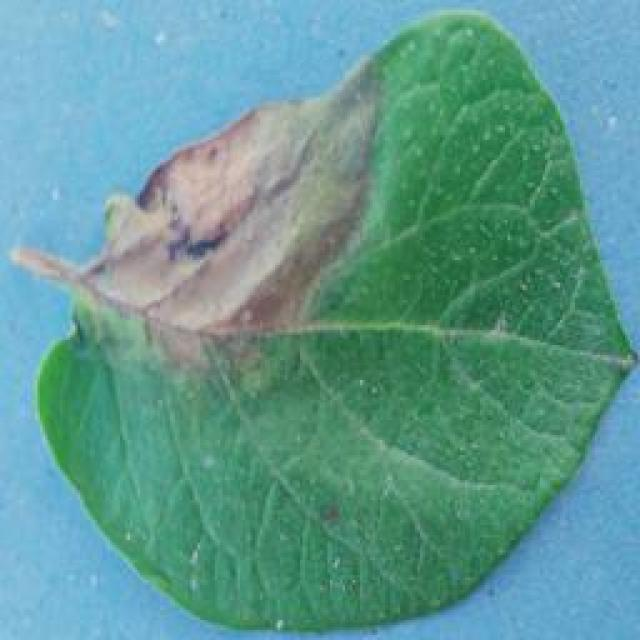Potato_Late_Blight: (0, 14, 638, 629)
